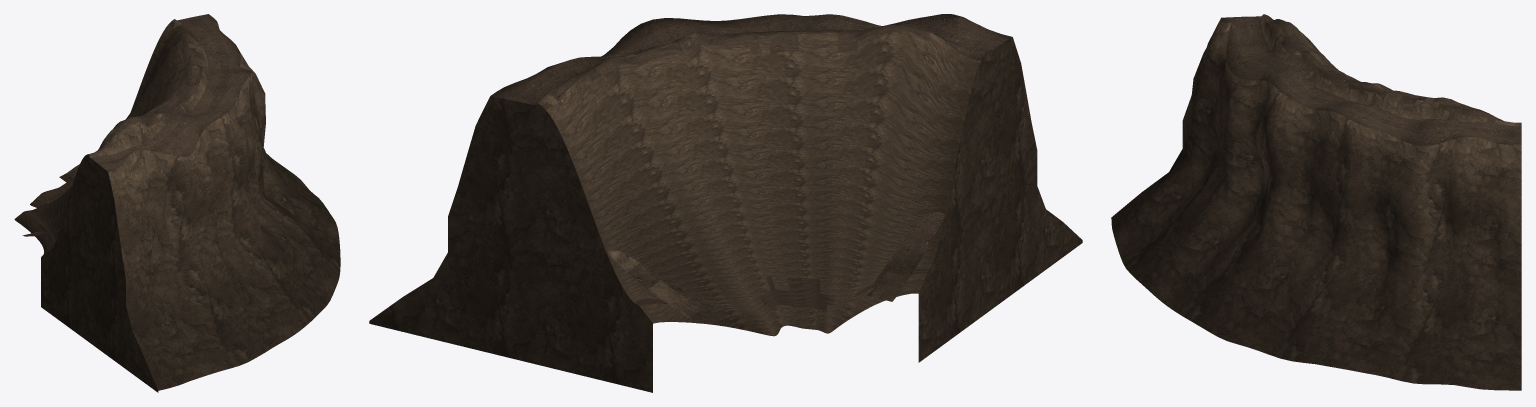
Rendered from seacliff_outer_h3_v5_dead.glb.
3 views of the same model, side by side, from view 1: azimuth 30°, elevation 25°; view 2: azimuth 150°, elevation 25°; view 3: azimuth 270°, elevation 25° (orthographic). The views are drawn at different scales.
Parts seen in each view (by area): view 1: seacliff_outer_h3; view 2: seacliff_outer_h3; view 3: seacliff_outer_h3.
Part boxes in pixels (x1,y1,x2,y2): seacliff_outer_h3: (14, 14, 340, 392); seacliff_outer_h3: (369, 14, 1082, 392); seacliff_outer_h3: (1111, 14, 1521, 390).
Bounding box in the file's own units: 8.19 × 4.93 × 8.19.
Materials: 2 (2 with a texture image).
